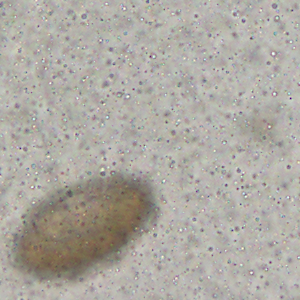Fasciola_hepatica_egg: (13, 173, 156, 281)
